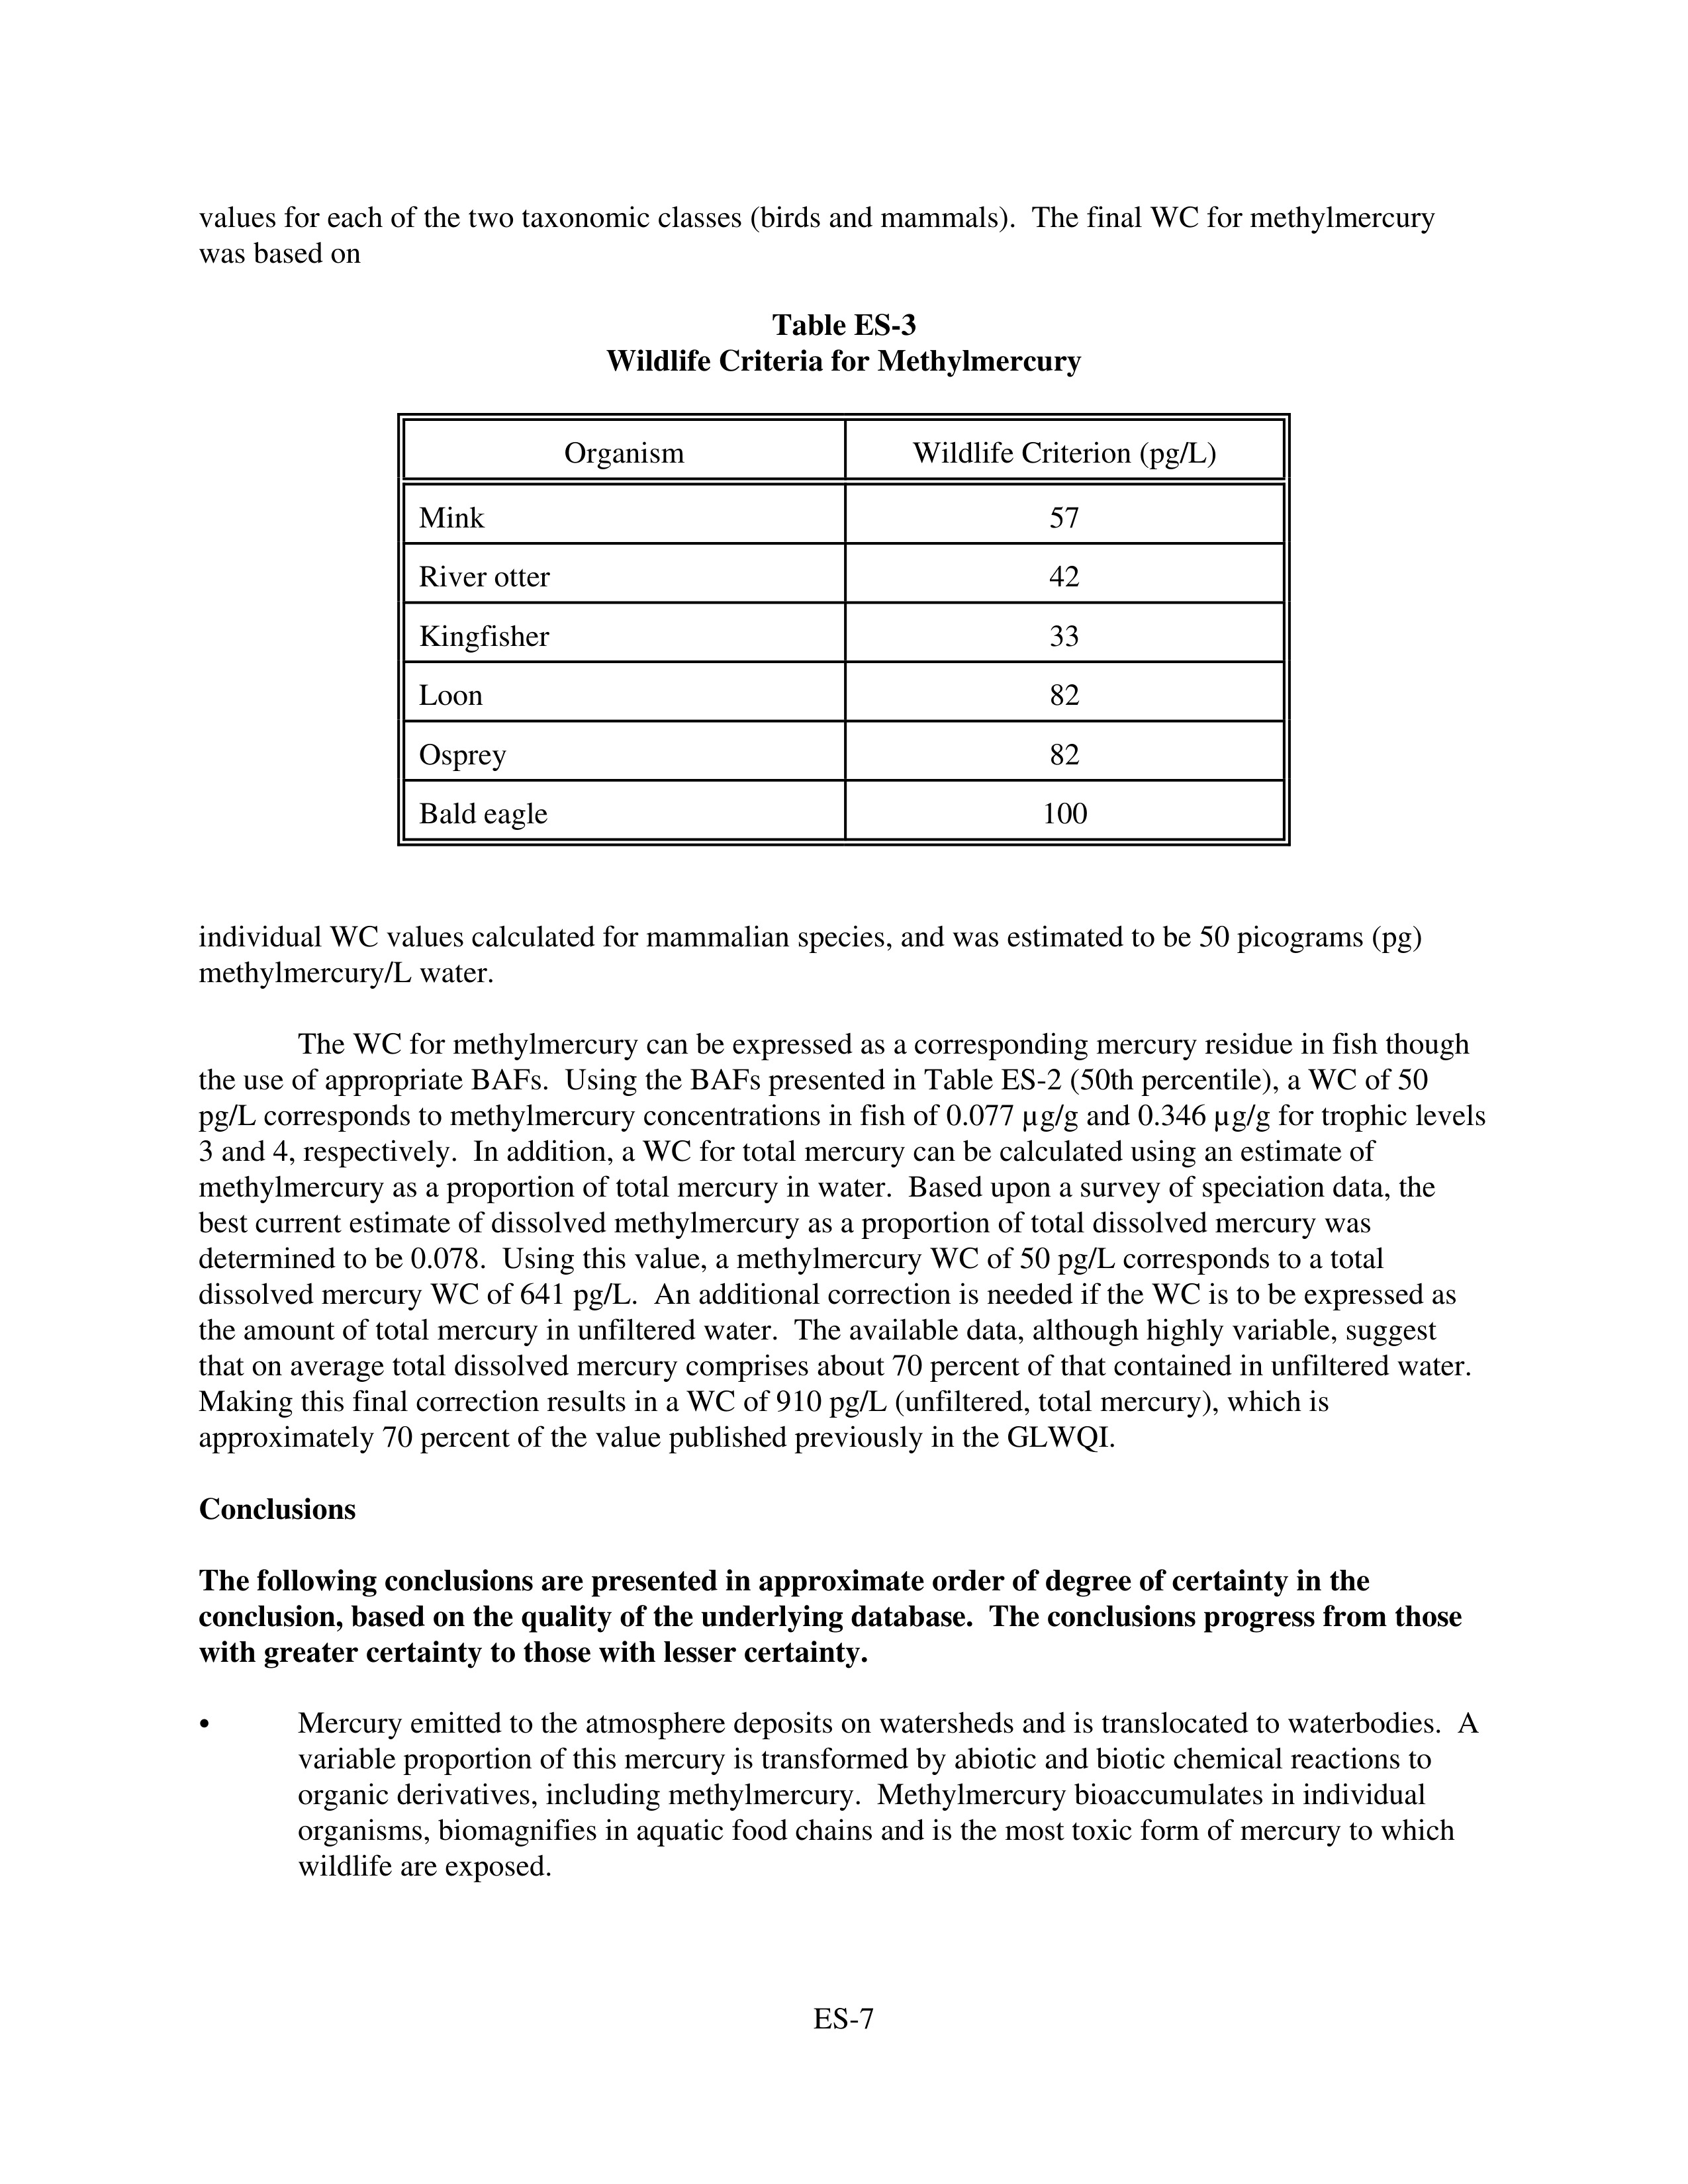table: (418, 431, 1216, 831)
